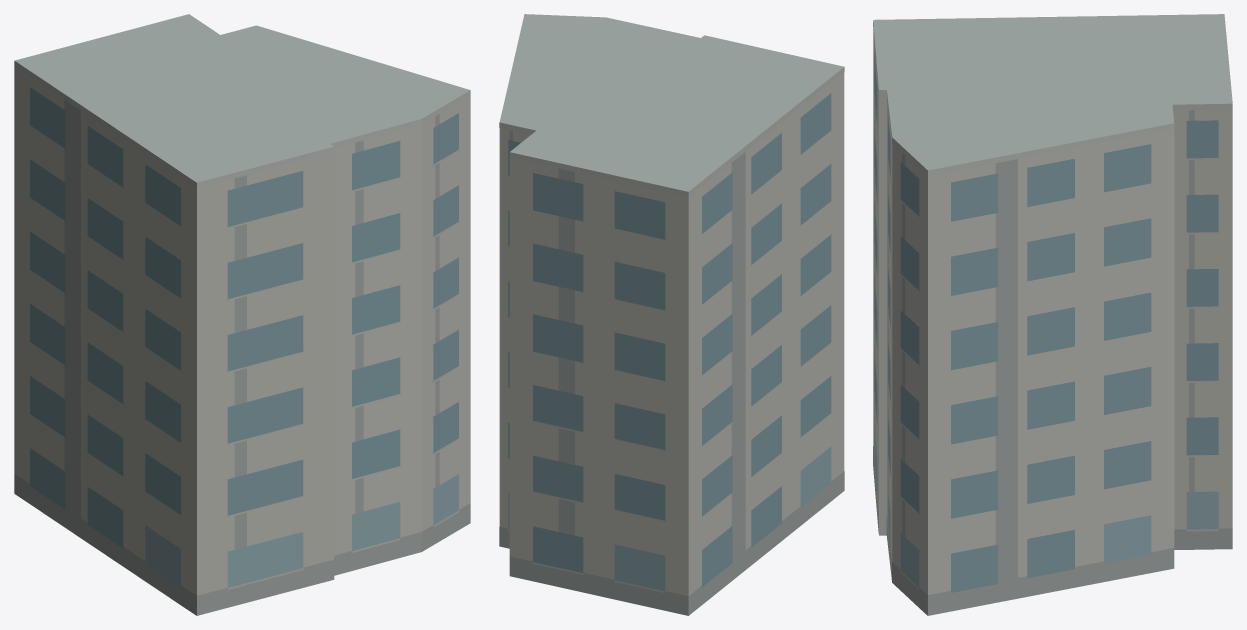
Rendered from survey-upis-32551687.glb.
The picture shows the model from 3 angles, left to right: view 1: azimuth 30°, elevation 25°; view 2: azimuth 150°, elevation 25°; view 3: azimuth 270°, elevation 25°; orthographic projection. The views are drawn at different scales.
Visible parts, largest first — view 1: survey-upis-32551687.tmp; view 2: survey-upis-32551687.tmp; view 3: survey-upis-32551687.tmp.
Part boxes in pixels (x1,y1,x2,y2): survey-upis-32551687.tmp: (14,14,470,615); survey-upis-32551687.tmp: (499,14,844,615); survey-upis-32551687.tmp: (873,14,1232,615).
Bounding box in the file's own units: 14.1 × 18.7 × 13.69.
